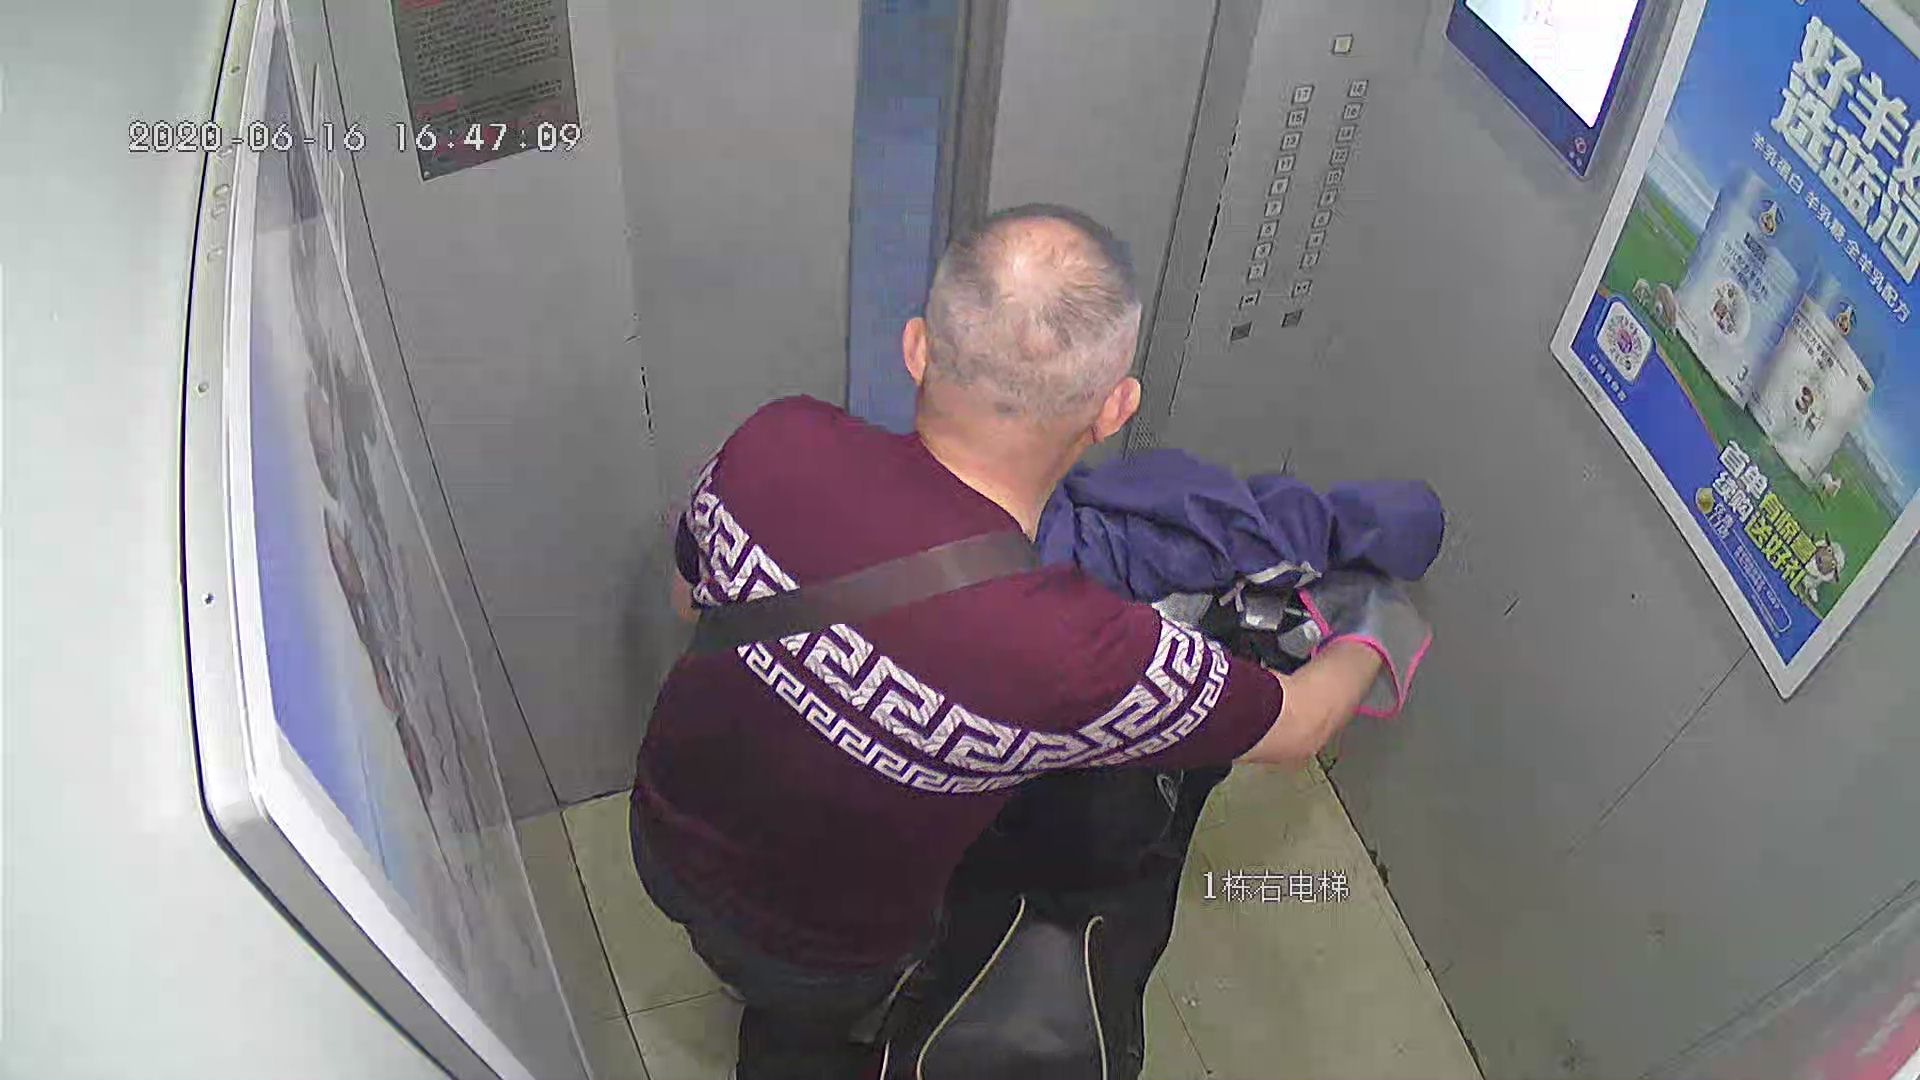Electric-bicycle: (880, 451, 1402, 1080)
